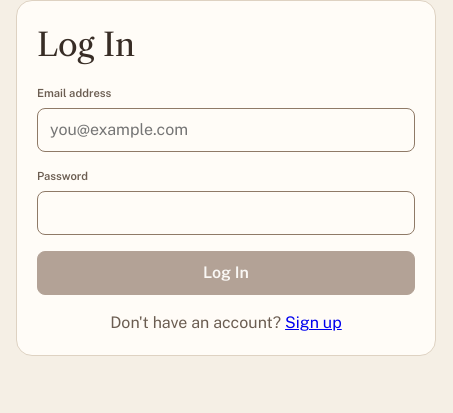
Test case: LoginScreen › shows an error message when login fails
Type "buyer@example.com" into the field labelled "Email address". click: x=226, y=130
box: [37,108,415,152]
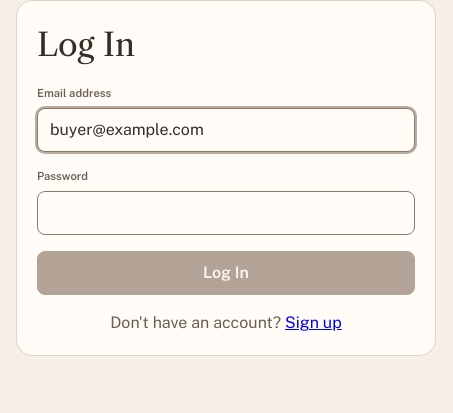
Type "wrong-password" into the password field labelled "Password". click: x=226, y=213
box: [37,191,415,235]
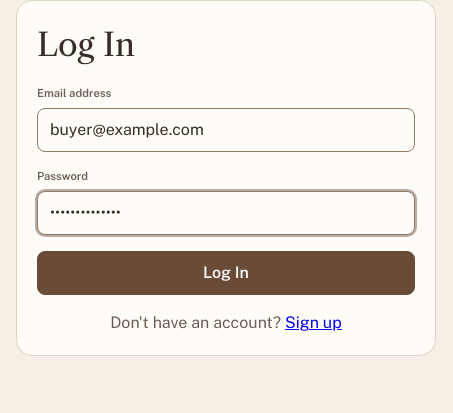
Click the button "Log In". click: x=226, y=273
box: [37,251,415,295]
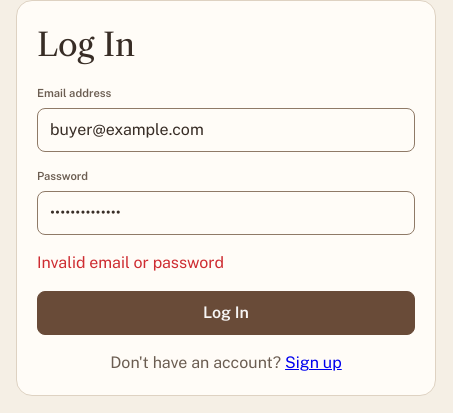
Check: the text "Invalid email or password" is shown, box [37,253,224,272]
